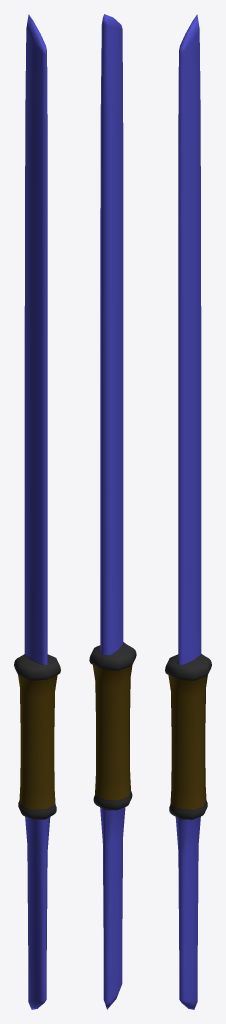
Rendered from rogue_sword_color.fbx.
The picture shows the model from 3 angles, left to right: view 1: azimuth 30°, elevation 25°; view 2: azimuth 150°, elevation 25°; view 3: azimuth 330°, elevation 25°; orthographic projection.
Parts seen in each view (by area): view 1: sword:pCube1; view 2: sword:pCube1; view 3: sword:pCube1.
Boxes of the visible parts, left/top/right/bottom form: sword:pCube1: left=14, top=14, right=60, bottom=1009; sword:pCube1: left=89, top=14, right=136, bottom=1009; sword:pCube1: left=165, top=14, right=211, bottom=1009.
Size of the model in its own units: 0.3163 by 7.57 by 0.3163.
